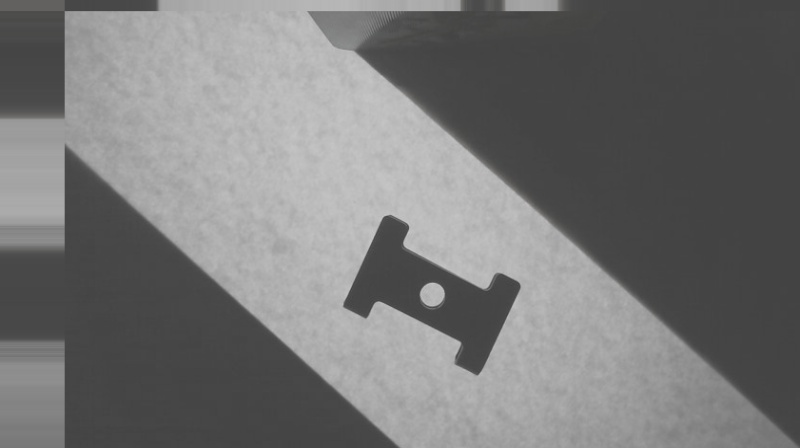O002: (340, 212, 525, 377)
